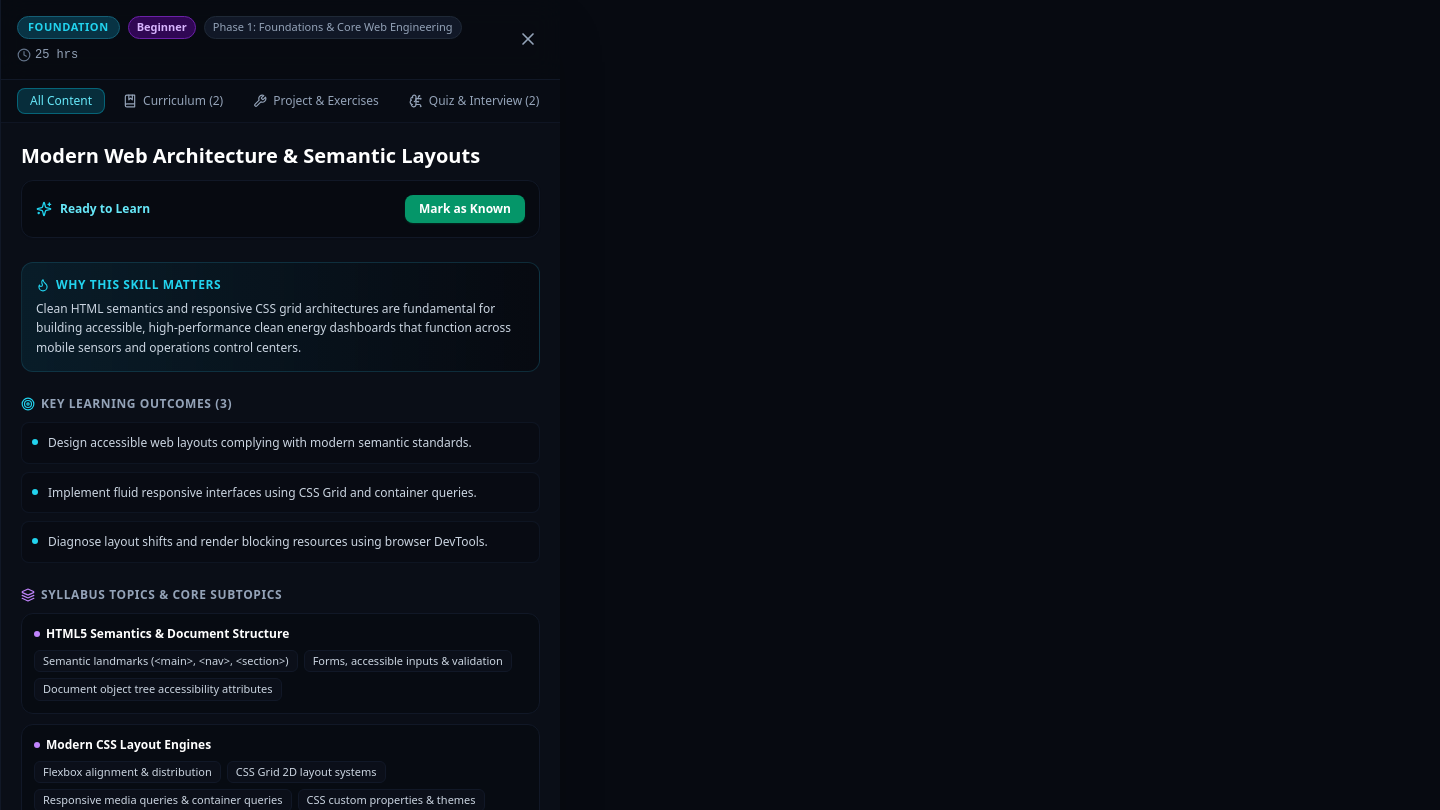
Test: Phase 6.5 — Detailed Course Curriculum & Roadmap Depth (Frontend) › renders interactive quiz questions with option selection and feedback explanations
Click Quiz & Interview tab
Click the button "Quiz & Interview (2)" at (474, 100), box [397, 88, 551, 112]
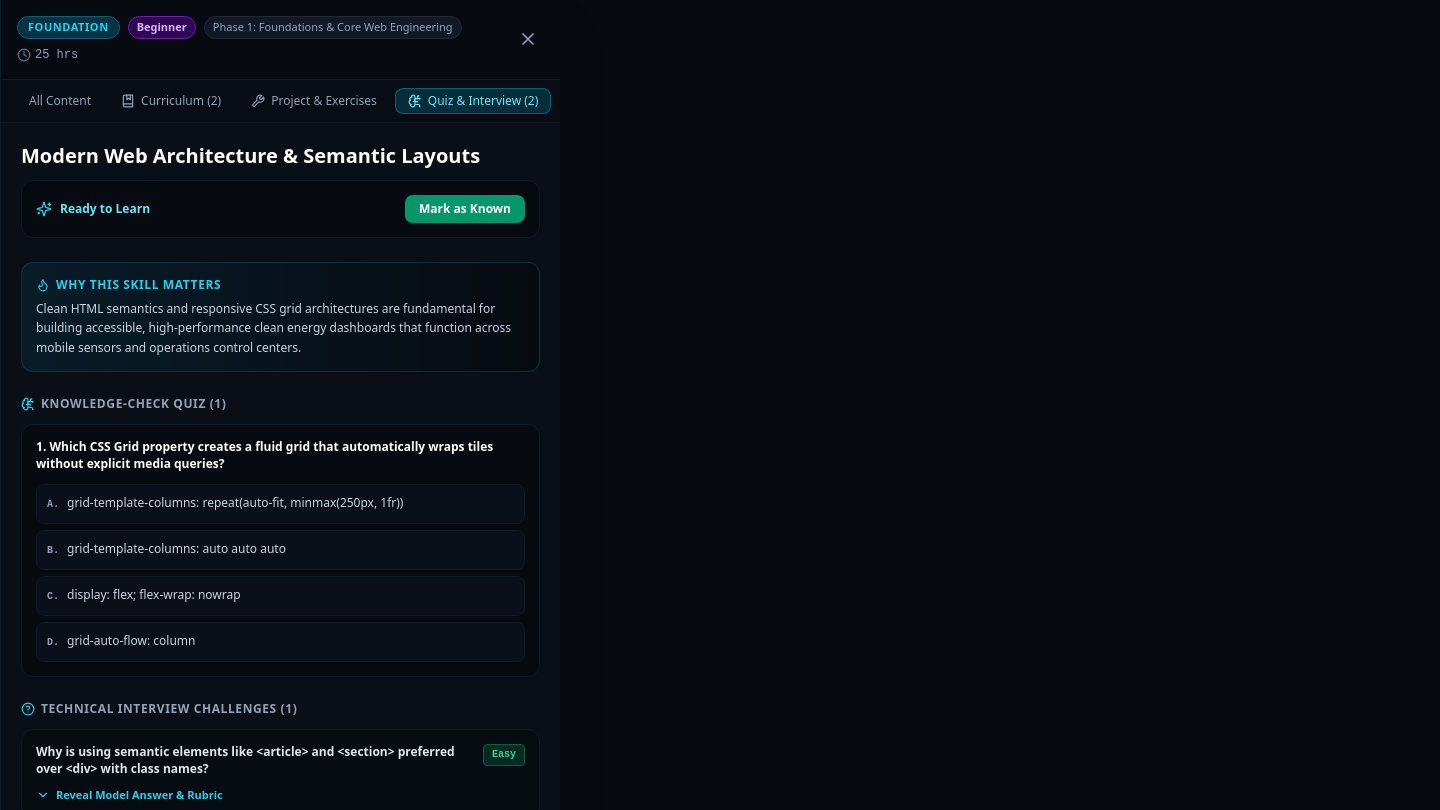
Expected: the heading "Which CSS Grid property creates a fluid grid" is shown, [36, 438, 493, 472]
Select the correct option A
Click the text "grid-template-columns: repeat(auto-fit, minmax(250px, 1fr))" at (235, 503), box [67, 495, 403, 512]
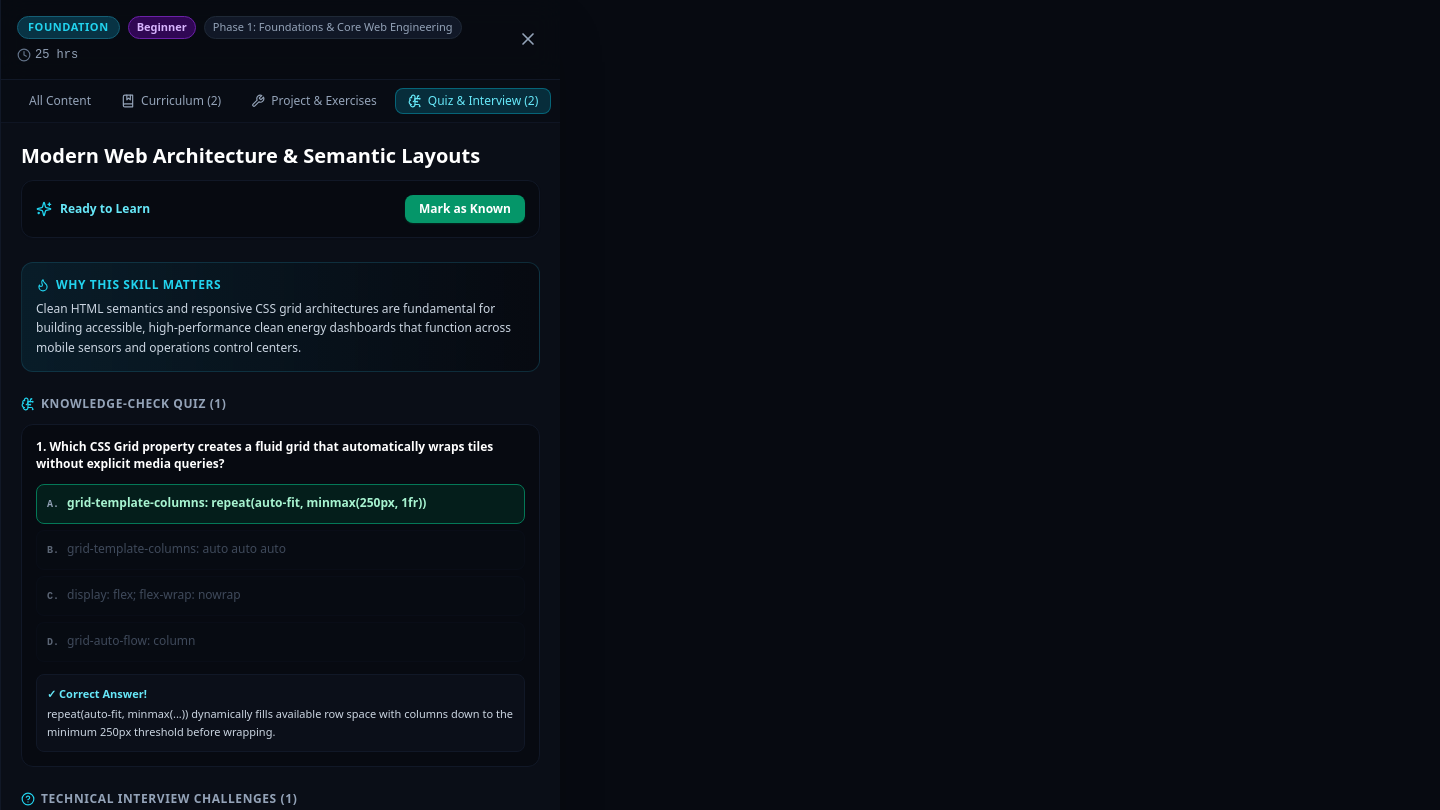
Result: the text "✓ Correct Answer!" is shown at [47, 686, 147, 701]
Result: the text "dynamically fills available row space" is shown at [47, 706, 513, 739]
